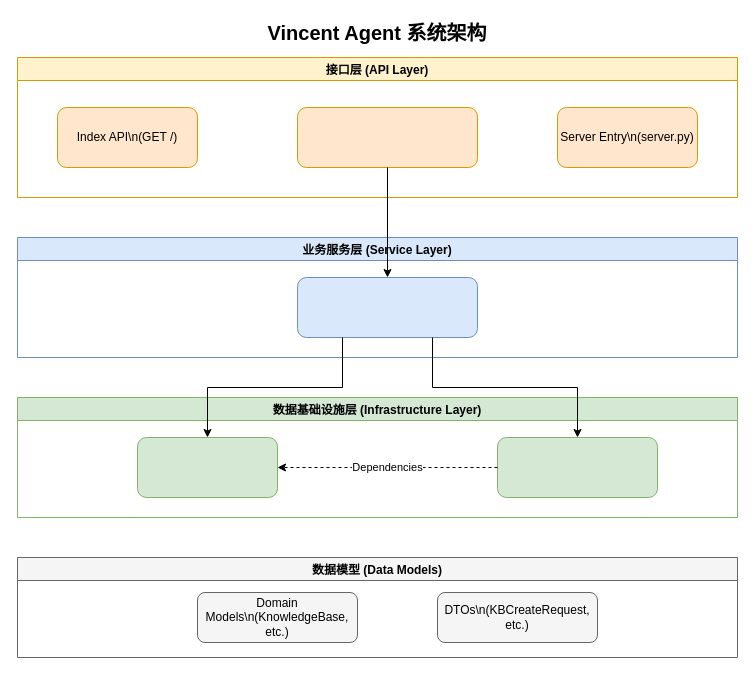
This 755x675 diagram has some shape labels left out. The shapes that lost their labels are listed below. From the top down, each one's centre as x and y in pixels, then its label:
At point (387, 137): "Knowledge Base API\n(knowledge_base.py)".
At point (387, 307): "KnowledgeBaseService".
At point (207, 467): "DBManager\n(PostgreSQL)".
At point (577, 467): "VectorStoreService\n(MD5Manager)".
